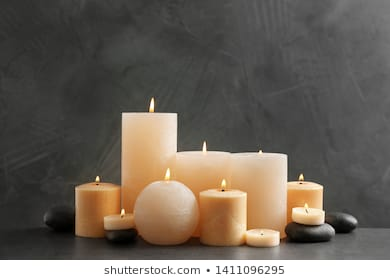Fire: (218, 176, 227, 190), (164, 167, 172, 181), (200, 139, 207, 152), (118, 207, 125, 218), (149, 97, 154, 112), (298, 172, 304, 182), (94, 175, 101, 183), (304, 201, 309, 212), (258, 229, 265, 235), (258, 148, 262, 155)
